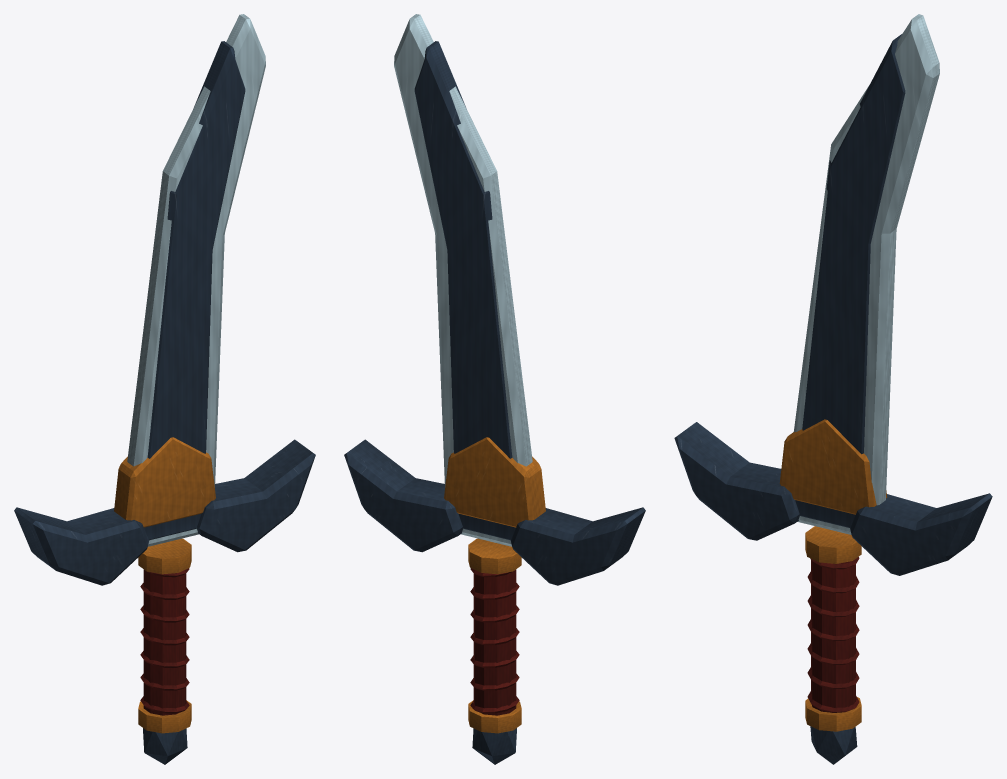
File: sword-t1.glb
3 views of the same model, side by side, from view 1: azimuth 30°, elevation 25°; view 2: azimuth 150°, elevation 25°; view 3: azimuth 330°, elevation 25° (orthographic). The views are drawn at different scales.
Visible parts, largest first — view 1: Sculpted blade core, Cutting edge, Forged guard.001, Forged guard, Blade collar, Leather grip, Grip ferrule.001, Faceted pommel, Grip ferrule; view 2: Sculpted blade core, Cutting edge, Forged guard.001, Forged guard, Blade collar, Leather grip, Grip ferrule.001, Faceted pommel, Grip ferrule; view 3: Sculpted blade core, Cutting edge, Forged guard, Forged guard.001, Blade collar, Leather grip, Grip ferrule.001, Faceted pommel, Grip ferrule.
Boxes of the visible parts, box(x1,y1,x2,y2) form: Sculpted blade core: box(144, 41, 245, 540); Cutting edge: box(127, 14, 265, 546); Forged guard.001: box(197, 439, 315, 552); Forged guard: box(14, 507, 148, 585); Blade collar: box(114, 437, 215, 527); Leather grip: box(143, 569, 186, 715); Grip ferrule.001: box(138, 538, 191, 574); Faceted pommel: box(143, 728, 187, 764); Grip ferrule: box(138, 700, 191, 733); Sculpted blade core: box(414, 41, 515, 540); Cutting edge: box(394, 14, 532, 546); Forged guard.001: box(344, 439, 462, 552); Forged guard: box(511, 507, 645, 585); Blade collar: box(444, 437, 545, 527); Leather grip: box(473, 569, 516, 715); Grip ferrule.001: box(468, 538, 521, 574); Faceted pommel: box(472, 728, 516, 764); Grip ferrule: box(468, 700, 521, 733); Sculpted blade core: box(795, 34, 905, 527); Cutting edge: box(793, 14, 939, 534); Forged guard: box(674, 422, 799, 540); Forged guard.001: box(850, 493, 992, 575); Blade collar: box(779, 419, 887, 514); Leather grip: box(811, 560, 855, 712); Grip ferrule.001: box(805, 526, 861, 563); Faceted pommel: box(810, 726, 857, 764); Grip ferrule: box(805, 697, 861, 731).
Bounding box in the file's own units: 0.4678 × 1.15 × 0.0784.
Materials: 1 (1 with a texture image).
